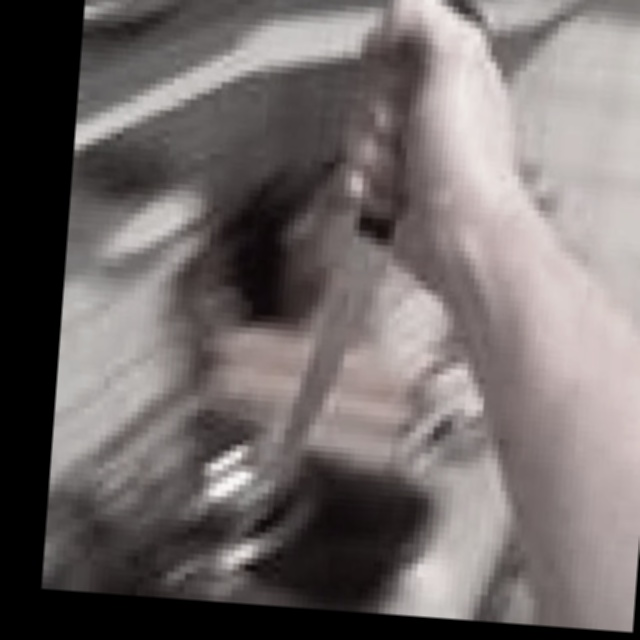Sharp-Object: (276, 0, 488, 495)
